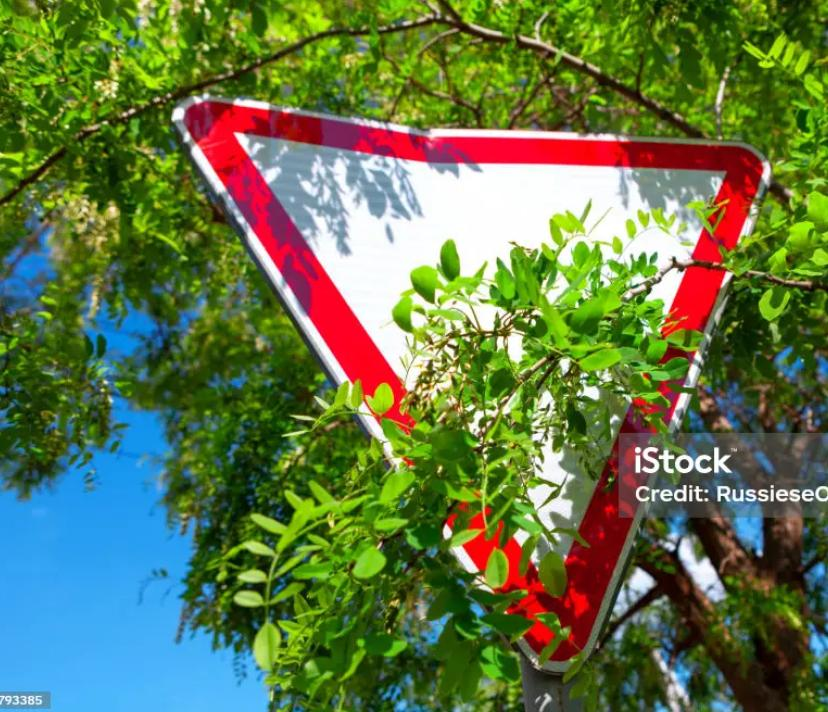obstructed_road_sign: (168, 95, 775, 676), (649, 264, 731, 427)
